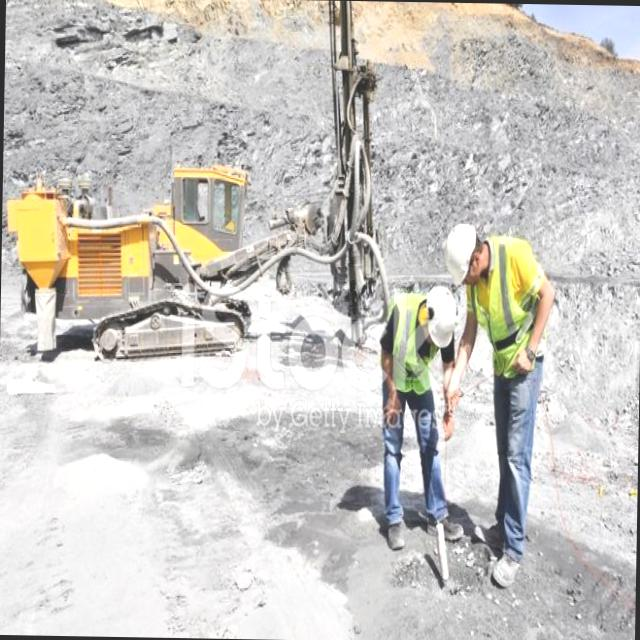helmet: (442, 222, 478, 291), (423, 285, 459, 353)
vest: (481, 236, 541, 379), (388, 293, 436, 400)
